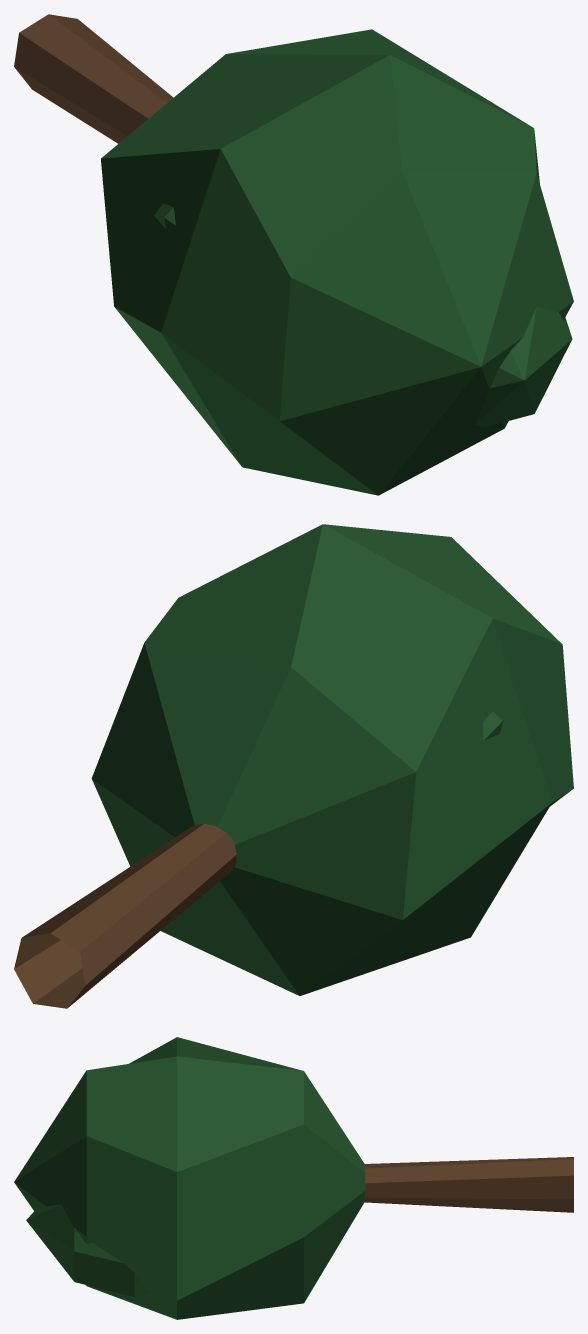
File: growth_1.glb
3 renders of one model, top to bottom at view 1: azimuth 30°, elevation 25°; view 2: azimuth 150°, elevation 25°; view 3: azimuth 270°, elevation 25°, orthographic. The views are drawn at different scales.
Parts seen in each view (by area): view 1: tree_07_growth_1; view 2: tree_07_growth_1; view 3: tree_07_growth_1.
Boxes of the visible parts, <box> form: tree_07_growth_1: <box>14,14,573,495</box>; tree_07_growth_1: <box>14,524,573,1008</box>; tree_07_growth_1: <box>14,1037,573,1319</box>.
Bounding box in the file's own units: 8.85 × 8.61 × 16.91.
